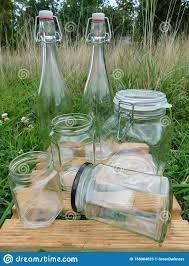glass: (67, 160, 178, 243), (32, 7, 79, 152), (5, 149, 77, 230), (81, 9, 119, 152), (110, 86, 175, 165), (48, 111, 102, 190)
